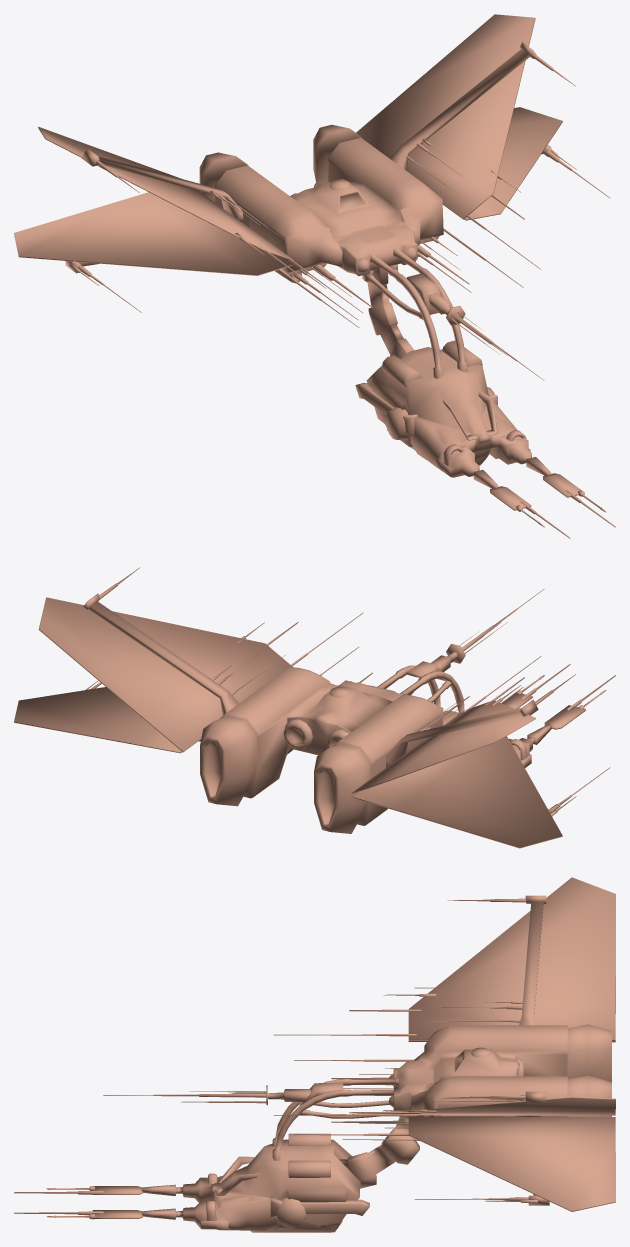
Rendered from slasher.glb.
3 renders of one model, top to bottom at view 1: azimuth 30°, elevation 25°; view 2: azimuth 150°, elevation 25°; view 3: azimuth 270°, elevation 25°, orthographic. The views are drawn at different scales.
Visible parts, largest first — view 1: slasher; view 2: slasher; view 3: slasher.
Boxes of the visible parts, x1,y1,x2,y2 form: slasher: (14,14,615,538); slasher: (14,567,615,848); slasher: (14,877,615,1232).
Size of the model in its own units: 0.9639 by 0.4381 by 1.
